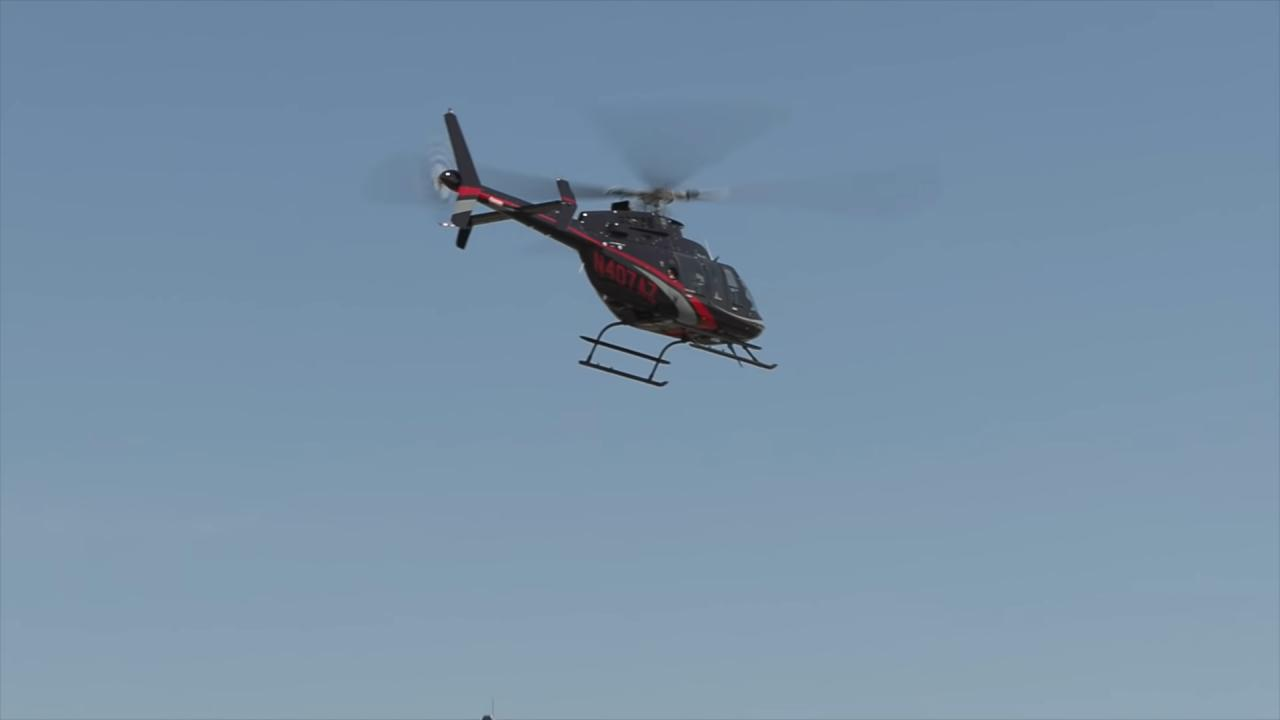Helicopter: (357, 60, 993, 425)
